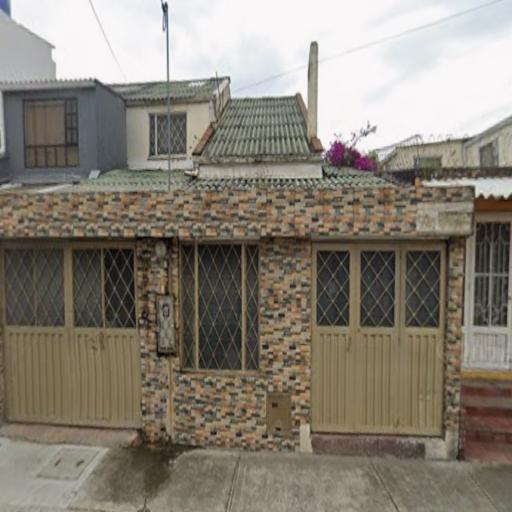fachada: (3, 8, 475, 478)
